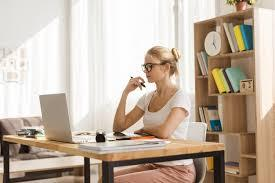Good Sitting Posture: (86, 40, 209, 183)
